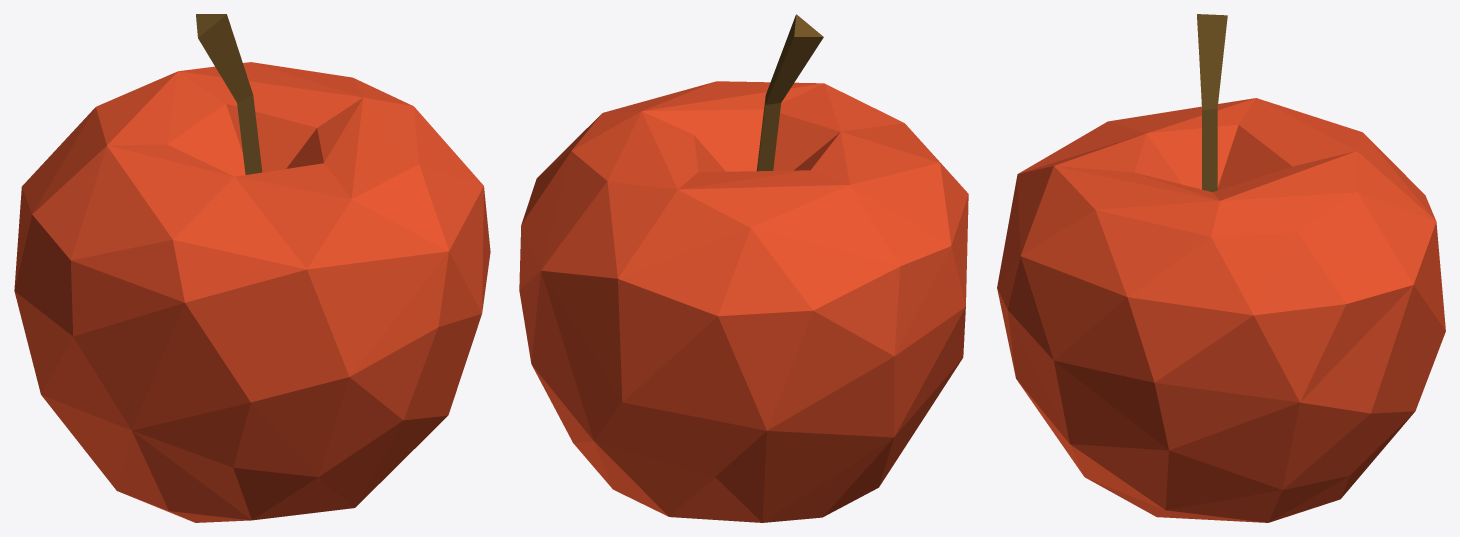
File: Apple.glb
3 renders of one model, left to right at view 1: azimuth 30°, elevation 25°; view 2: azimuth 150°, elevation 25°; view 3: azimuth 270°, elevation 25°, orthographic. The views are drawn at different scales.
Parts seen in each view (by area): view 1: Apple; view 2: Apple; view 3: Apple.
Part boxes in pixels (x1,y1,x2,y2): Apple: (14,14,490,522); Apple: (519,14,968,522); Apple: (997,14,1445,522).
Size of the model in its own units: 0.1154 by 0.1315 by 0.119.
